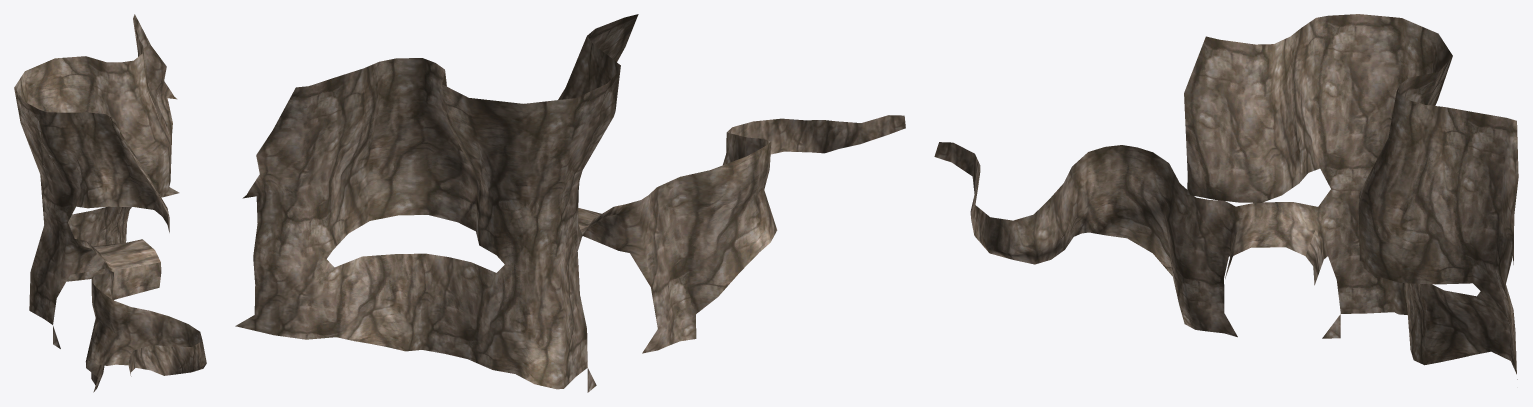
The model's file is EKH_THRONE_PS_TH_LAKE_WALL876.fbx.
The picture shows the model from 3 angles, left to right: view 1: azimuth 30°, elevation 25°; view 2: azimuth 150°, elevation 25°; view 3: azimuth 270°, elevation 25°; orthographic projection. The views are drawn at different scales.
Parts seen in each view (by area): view 1: EKH_THRONE_PS_TH_LAKE_WALL876; view 2: EKH_THRONE_PS_TH_LAKE_WALL876; view 3: EKH_THRONE_PS_TH_LAKE_WALL876.
Part boxes in pixels (x1=…): EKH_THRONE_PS_TH_LAKE_WALL876: x1=14, y1=14, x2=206, y2=392; EKH_THRONE_PS_TH_LAKE_WALL876: x1=235, y1=14, x2=905, y2=392; EKH_THRONE_PS_TH_LAKE_WALL876: x1=934, y1=14, x2=1518, y2=379.
Bounding box in the file's own units: 159417 × 133618 × 227084.
Materials: 1 (1 with a texture image).
